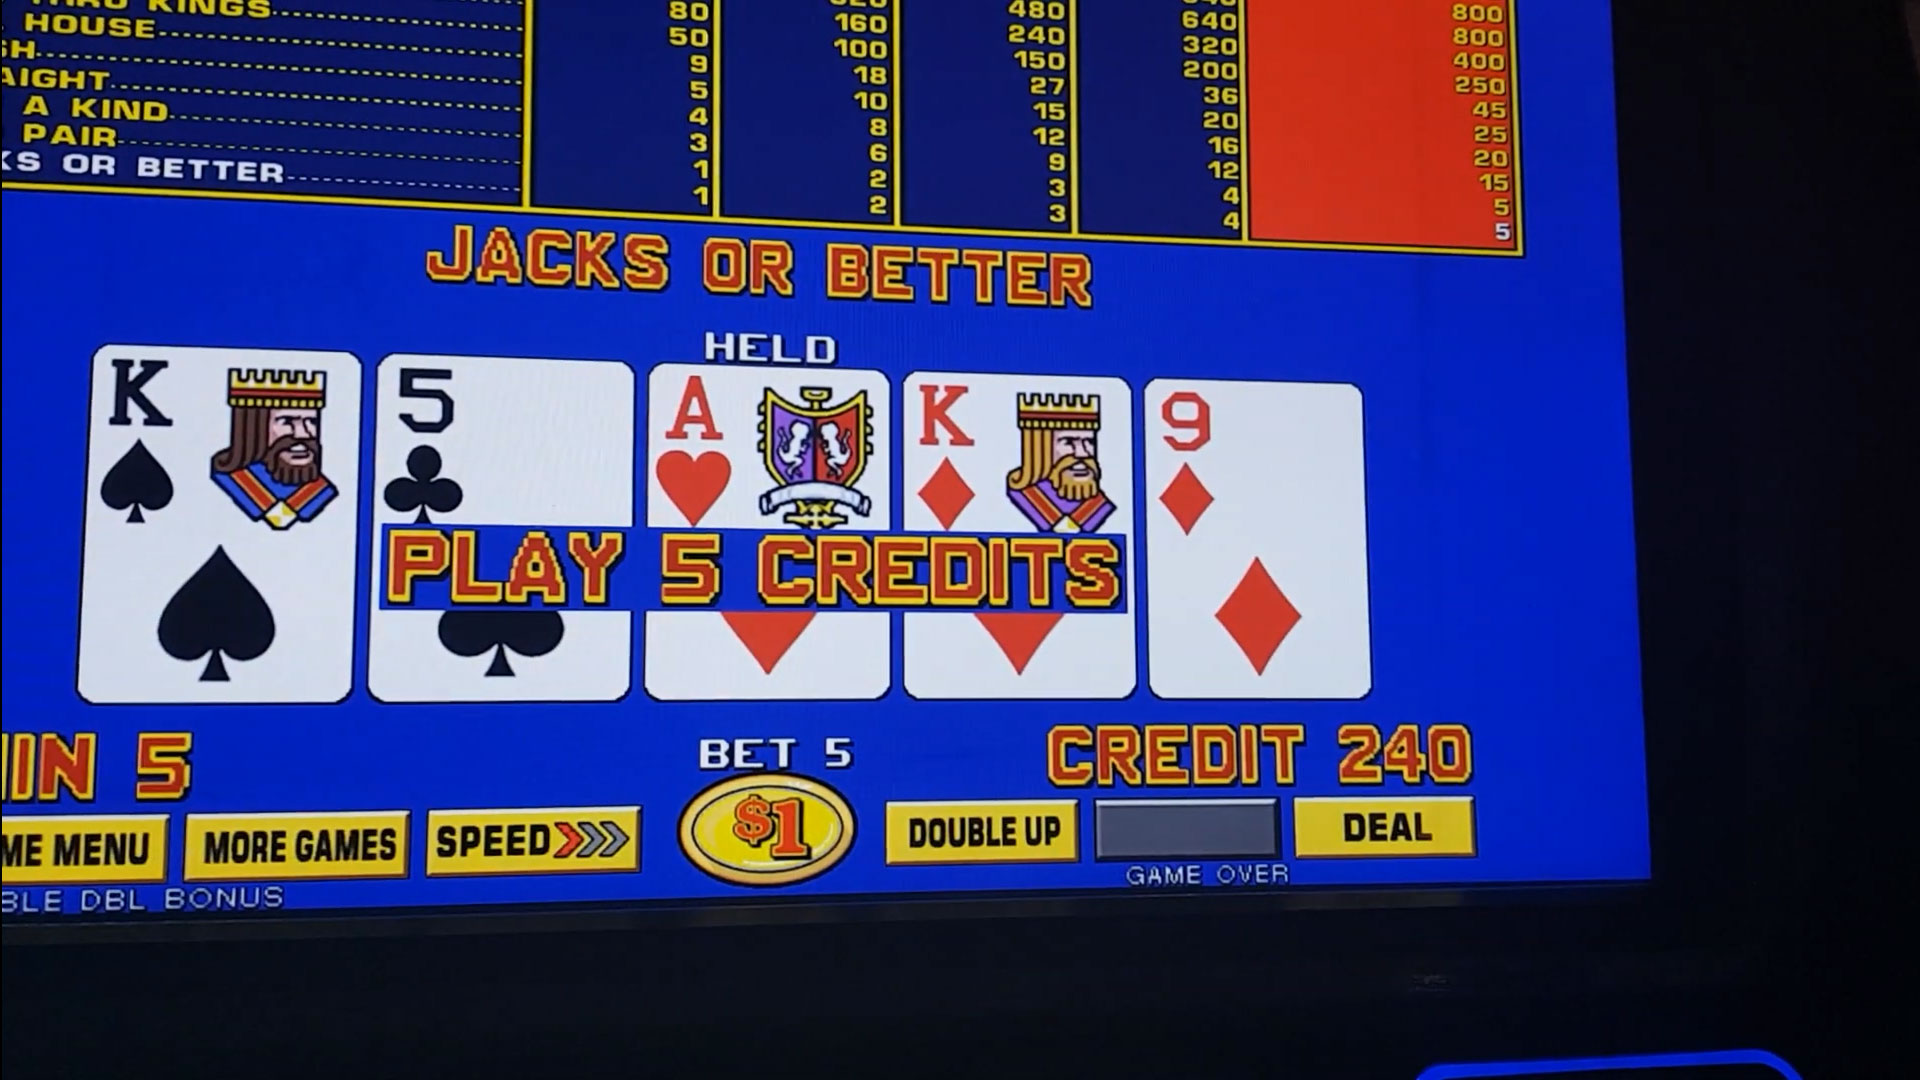C5: (377, 364, 632, 522)
D9: (1151, 389, 1357, 558)
DK: (909, 380, 1126, 534)
HA: (655, 367, 882, 530)
SK: (98, 352, 352, 533)
